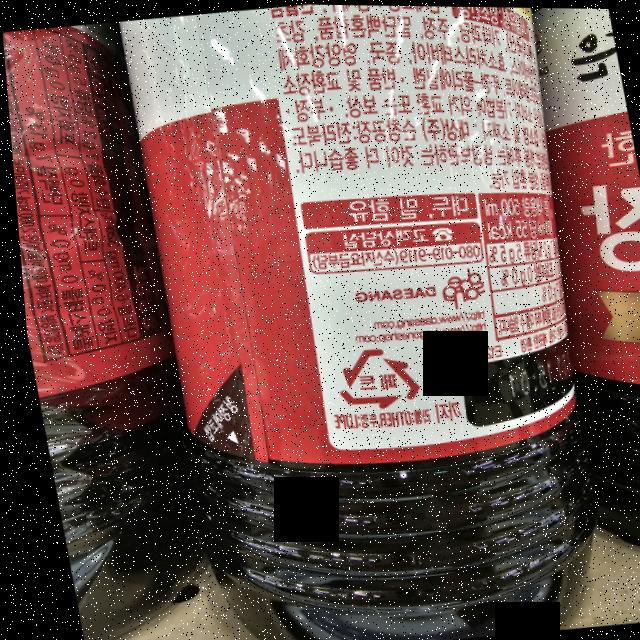PET: (323, 340, 421, 415)
